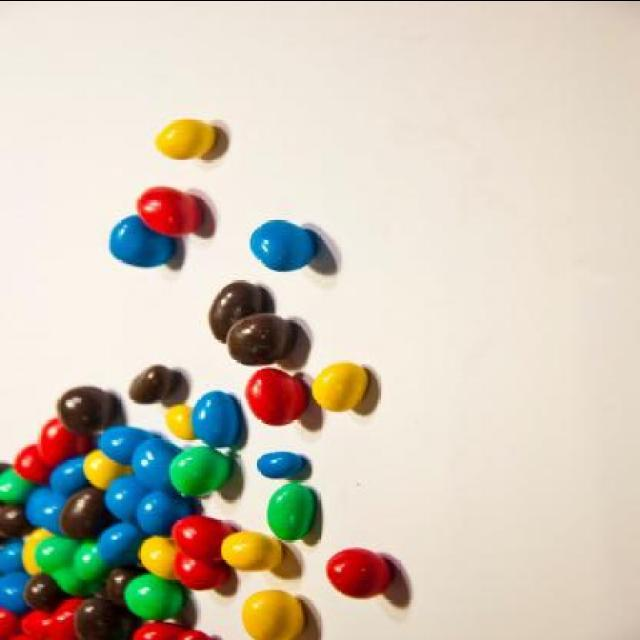Candy: (0, 363, 315, 640), (242, 215, 322, 271), (202, 280, 270, 344), (130, 184, 206, 238), (107, 212, 179, 266), (245, 366, 308, 426), (325, 547, 393, 599), (306, 362, 370, 414), (226, 313, 290, 365), (242, 588, 303, 640), (154, 116, 214, 159)
